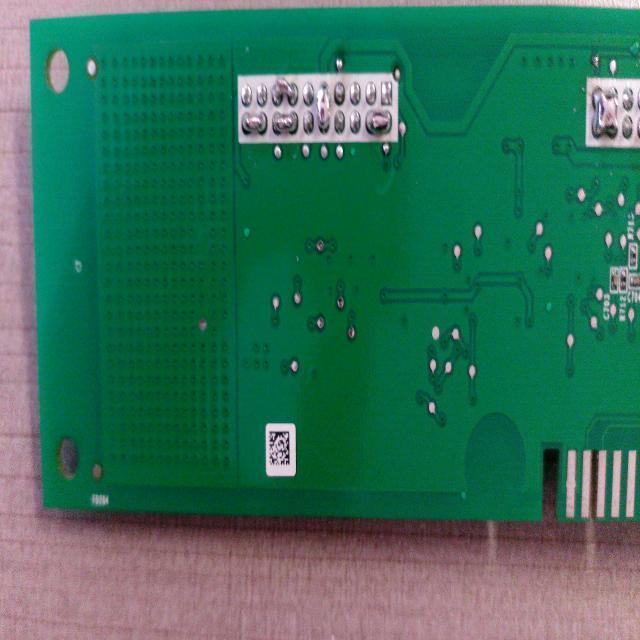Soldering shorted: (590, 82, 620, 143), (270, 76, 300, 108), (316, 76, 332, 136), (364, 108, 396, 136), (270, 108, 300, 136), (240, 110, 268, 136)
